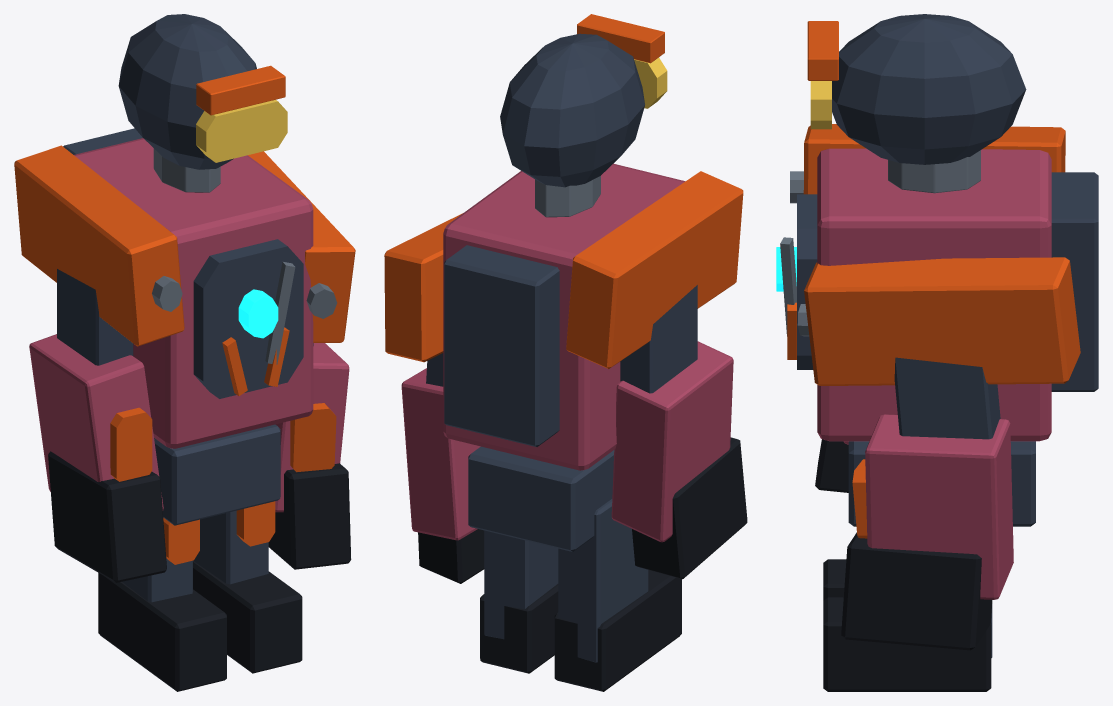
The model's file is enemy_standard__damaged.glb.
3 views of the same model, side by side, from view 1: azimuth 30°, elevation 25°; view 2: azimuth 150°, elevation 25°; view 3: azimuth 270°, elevation 25° (orthographic). The views are drawn at different scales.
Visible parts, largest first — view 1: ROLE_primary, ROLE_threat, ROLE_accent, ROLE_rubber, ROLE_bareMetal, ROLE_warning, ROLE_interaction; view 2: ROLE_primary, ROLE_threat, ROLE_accent, ROLE_rubber, ROLE_bareMetal, ROLE_warning; view 3: ROLE_threat, ROLE_primary, ROLE_accent, ROLE_rubber, ROLE_bareMetal, ROLE_warning.
Boxes of the visible parts, box(x1,y1,x2,y2) form: ROLE_primary: box(57, 14, 313, 602); ROLE_threat: box(29, 138, 349, 512); ROLE_accent: box(14, 65, 355, 564); ROLE_rubber: box(48, 451, 351, 691); ROLE_bareMetal: box(152, 148, 337, 364); ROLE_warning: box(196, 99, 287, 162); ROLE_interaction: box(238, 289, 278, 338); ROLE_primary: box(426, 33, 697, 662); ROLE_threat: box(401, 163, 733, 542); ROLE_accent: box(384, 14, 743, 368); ROLE_rubber: box(418, 437, 747, 691); ROLE_bareMetal: box(535, 176, 600, 217); ROLE_warning: box(634, 57, 667, 108); ROLE_threat: box(817, 148, 1051, 599); ROLE_primary: box(797, 14, 1098, 657); ROLE_accent: box(787, 21, 1080, 538); ROLE_rubber: box(815, 439, 992, 691); ROLE_bareMetal: box(780, 150, 980, 336); ROLE_warning: box(810, 81, 831, 129).
Bounding box in the file's own units: 2.5 × 5.39 × 2.45.
